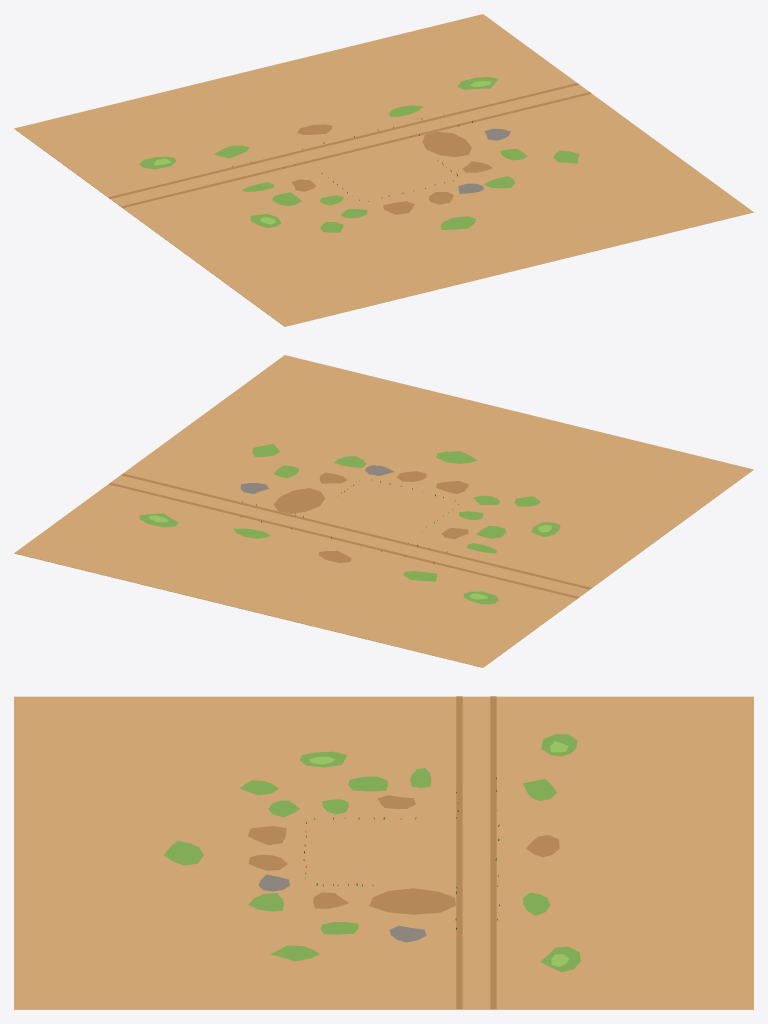
The model's file is ground.glb.
3 renders of one model, top to bottom at view 1: azimuth 30°, elevation 25°; view 2: azimuth 150°, elevation 25°; view 3: azimuth 270°, elevation 25°, orthographic. The views are drawn at different scales.
Visible parts, largest first — view 1: ground; view 2: ground; view 3: ground.
Boxes of the visible parts, box(x1,y1,x2,y2) form: ground: box(14, 14, 753, 326); ground: box(14, 355, 753, 667); ground: box(14, 696, 753, 1009).
Bounding box in the file's own units: 100 × 0.5219 × 100.
1 material, 1 textured.
